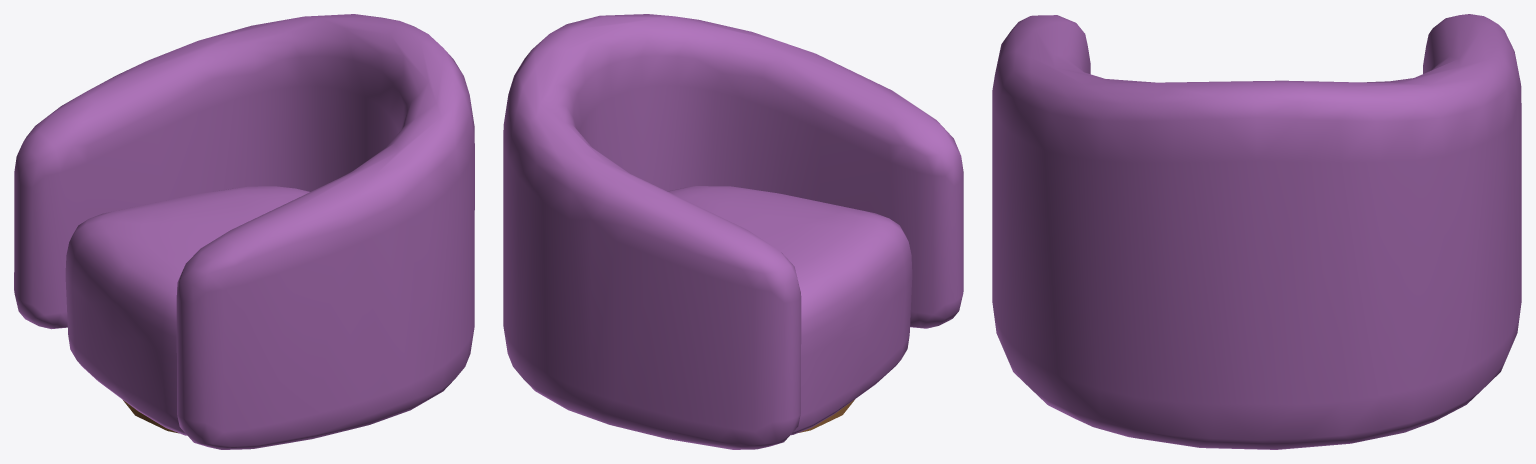
Rendered from armchair_04_purple.fbx.
3 renders of one model, left to right at view 1: azimuth 30°, elevation 25°; view 2: azimuth 150°, elevation 25°; view 3: azimuth 270°, elevation 25°, orthographic. The views are drawn at different scales.
Parts seen in each view (by area): view 1: armchair_04_purple; view 2: armchair_04_purple; view 3: armchair_04_purple.
Part boxes in pixels (x1,y1,x2,y2): armchair_04_purple: [14, 14, 474, 449]; armchair_04_purple: [503, 14, 963, 449]; armchair_04_purple: [992, 14, 1521, 449].
Size of the model in its own units: 115 by 99.69 by 122.
2 materials, 2 textured.
